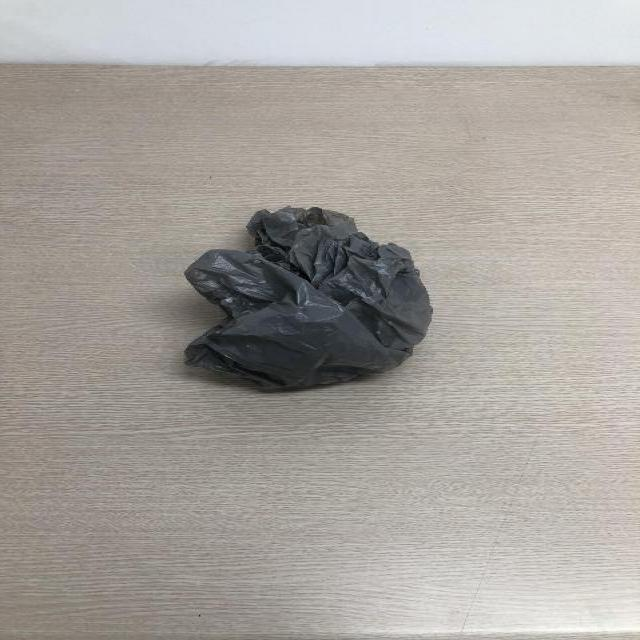plastic bag: (182, 202, 438, 394)
